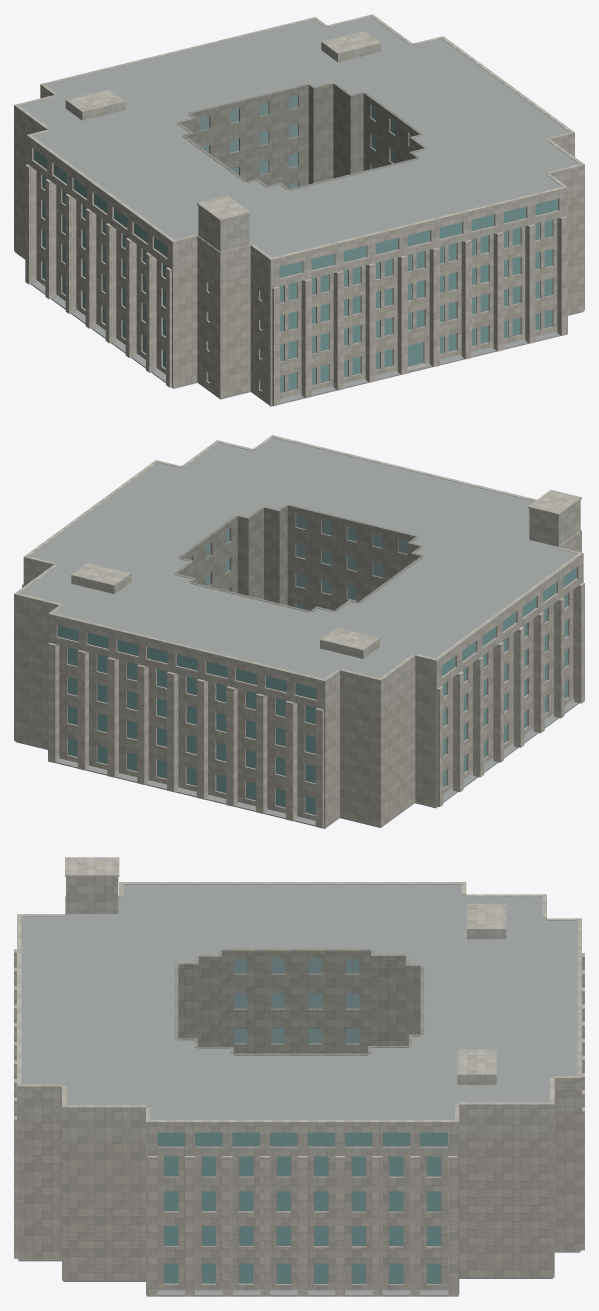
3 renders of one model, top to bottom at view 1: azimuth 30°, elevation 25°; view 2: azimuth 150°, elevation 25°; view 3: azimuth 270°, elevation 25°, orthographic. The views are drawn at different scales.
Visible parts, largest first — view 1: w7__roof, w7__stone, w7__piers, w7__crown, w7__reveal, w7__glass, w7__frame, w7__core, w7__sideglass; view 2: w7__roof, w7__stone, w7__piers, w7__crown, w7__reveal, w7__glass, w7__core, w7__frame, w7__sideglass; view 3: w7__roof, w7__stone, w7__reveal, w7__crown, w7__piers, w7__glass, w7__frame, w7__core, w7__sideglass.
Part boxes in pixels (x1,y1,x2,y2): w7__roof: (15,16,583,406); w7__stone: (14,134,584,405); w7__piers: (25,164,567,405); w7__crown: (14,14,584,288); w7__reveal: (177,82,426,190); w7__glass: (34,149,557,392); w7__frame: (33,94,558,392); w7__core: (65,31,380,251); w7__sideglass: (200,94,412,188); w7__roof: (15,437,579,828); w7__stone: (14,582,583,827); w7__piers: (22,582,584,828); w7__crown: (14,435,583,709); w7__reveal: (174,504,423,612); w7__glass: (58,568,576,814); w7__core: (71,500,580,658); w7__frame: (57,514,576,814); w7__sideglass: (188,514,407,609); w7__roof: (18,884,580,1296); w7__stone: (17,1111,581,1295); w7__reveal: (174,949,424,1055); w7__crown: (17,857,581,1155); w7__piers: (14,949,584,1296); w7__glass: (158,1132,446,1282); w7__frame: (157,958,447,1283); w7__core: (66,877,506,1084); w7__sideglass: (234,958,358,1042).
Bounding box in the file's own units: 58.23 × 24.02 × 57.94.
Materials: 10 (6 with a texture image).
